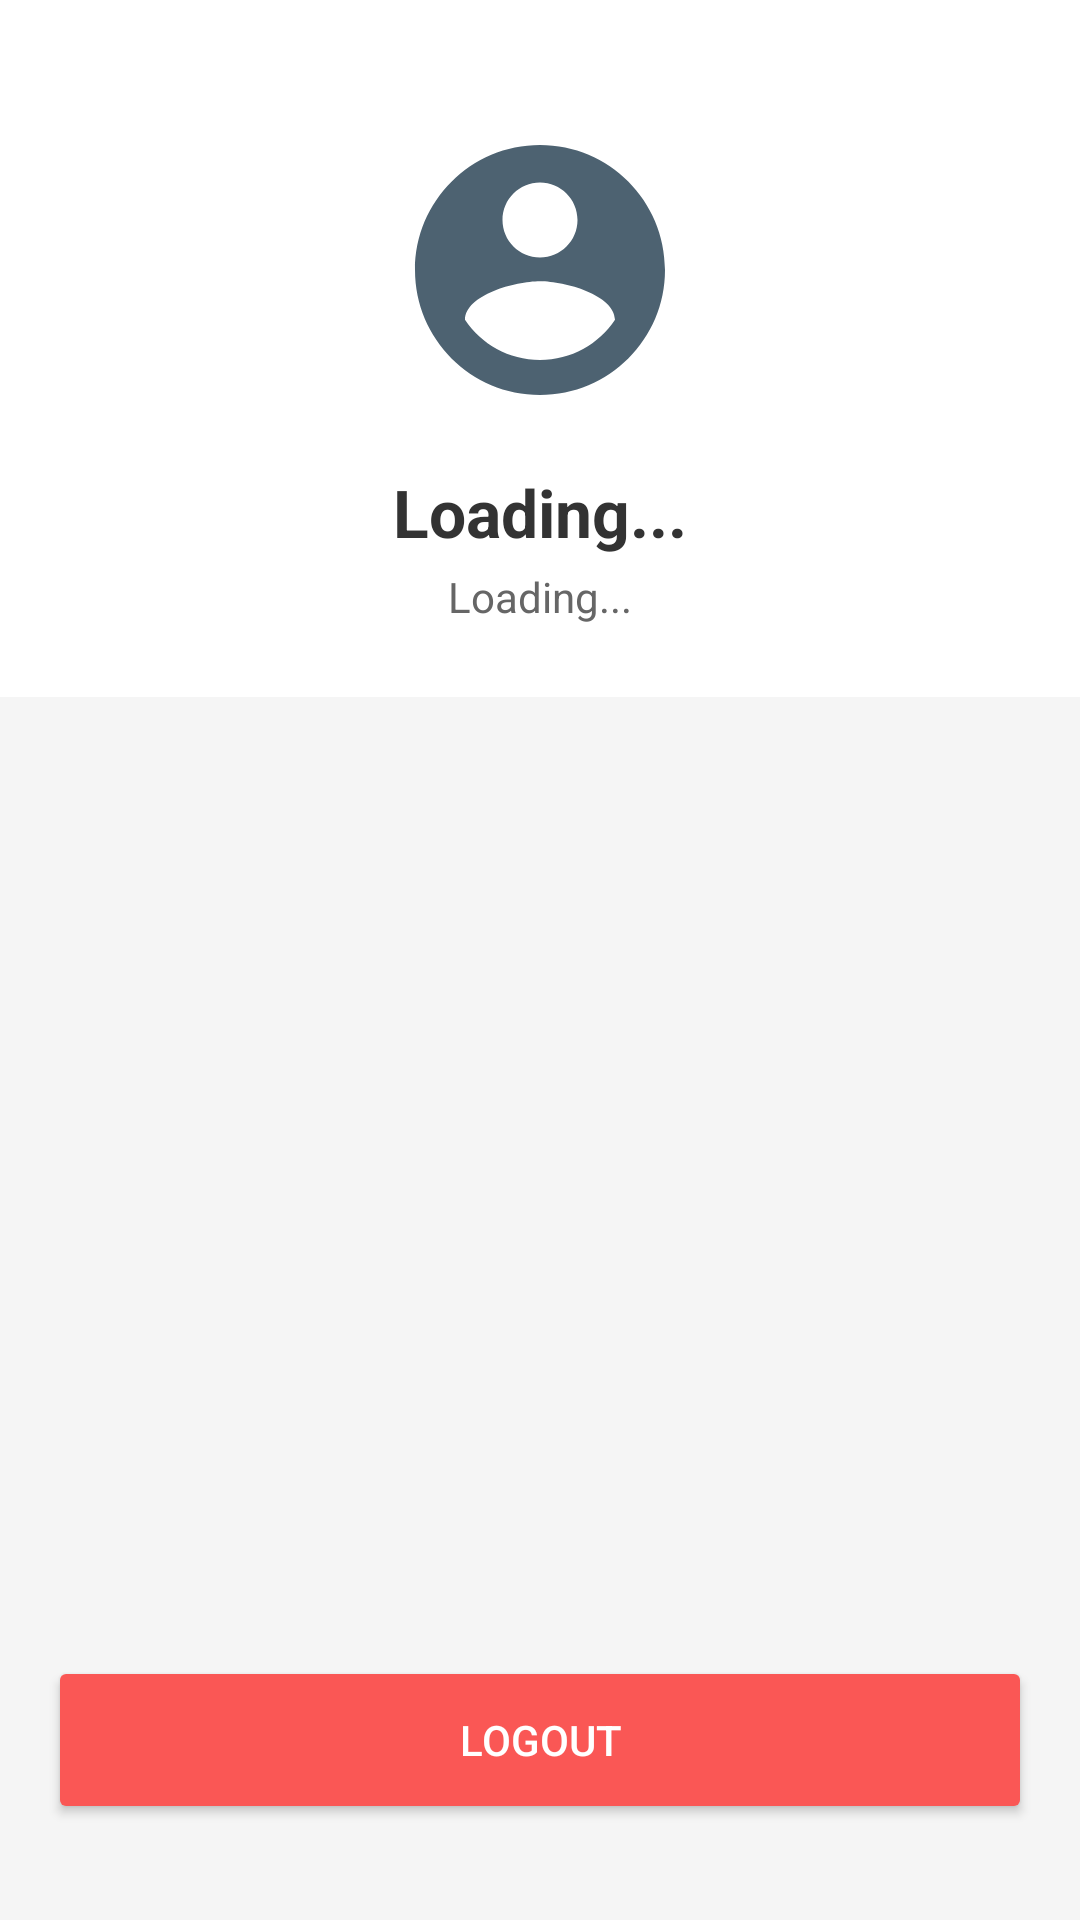

Where to tap for icons on this 1080px x 1920px app screen, as (x=x, y=y):
Profile Picture: (x=540, y=270)
